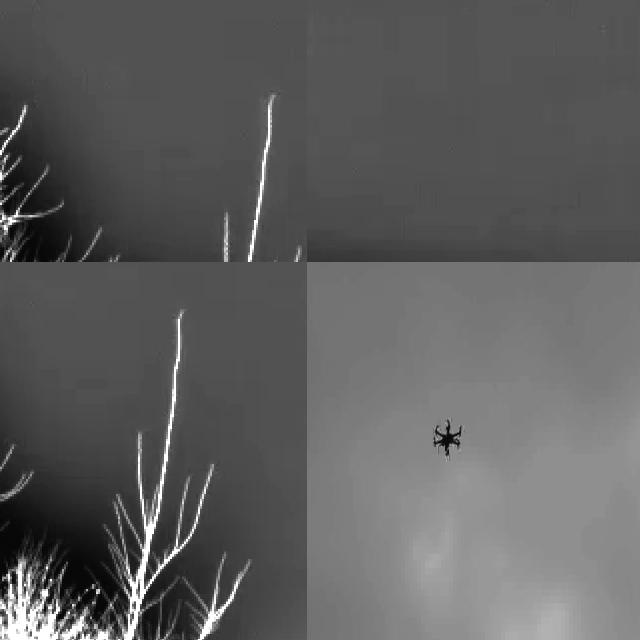drone: (426, 415, 466, 461)
